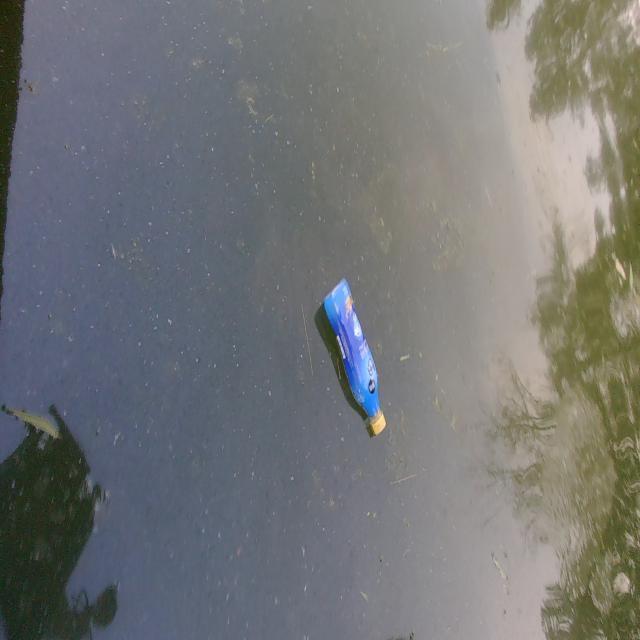garbage: (322, 277, 386, 437)
